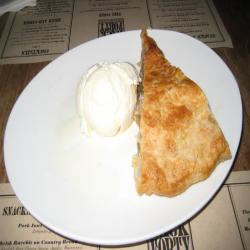apple_pie: (124, 27, 238, 207)
icecream: (70, 56, 143, 141)
